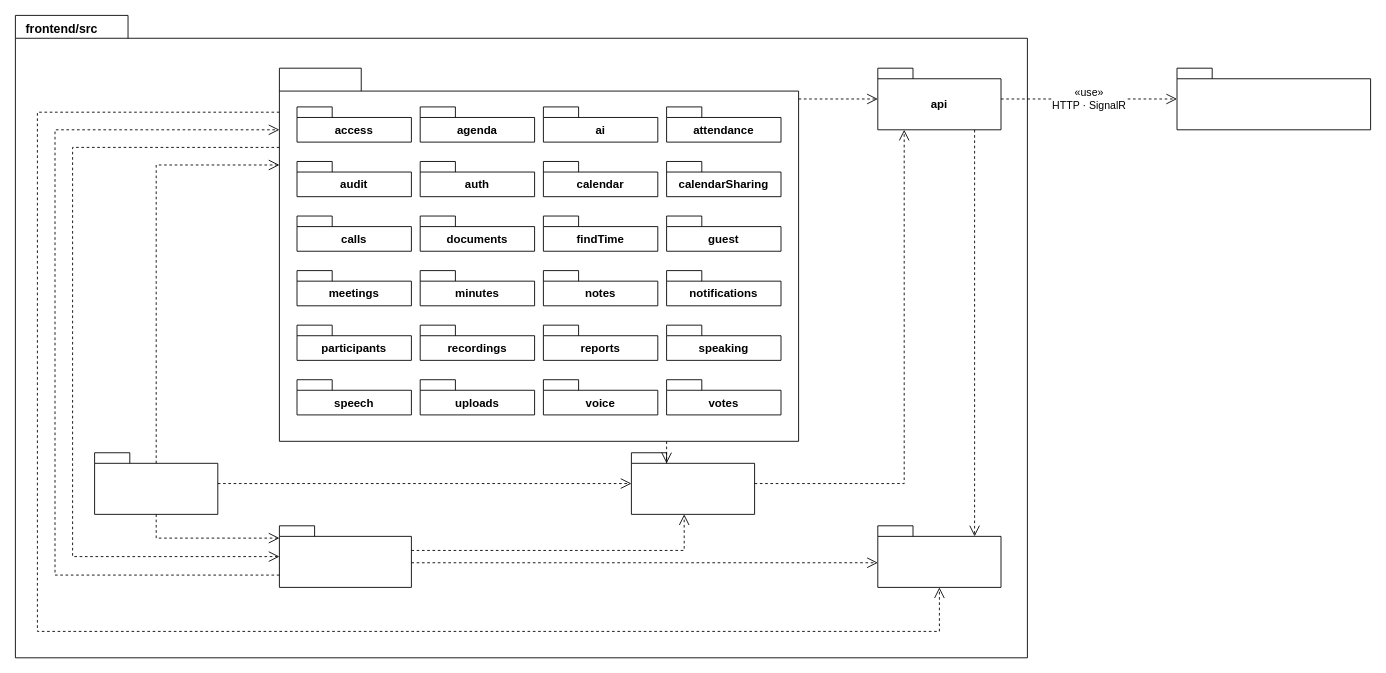
Some shapes in this 1386 by 673 pixel diagram are drawn without their labels. Each missing label, with the box of its shape:
app: (94, 452, 218, 514)
backend::TrustCabinet.Web: (1176, 67, 1371, 130)
components: (279, 525, 411, 587)
features: (279, 67, 799, 441)
lib: (631, 452, 755, 514)
types: (877, 525, 1001, 587)
